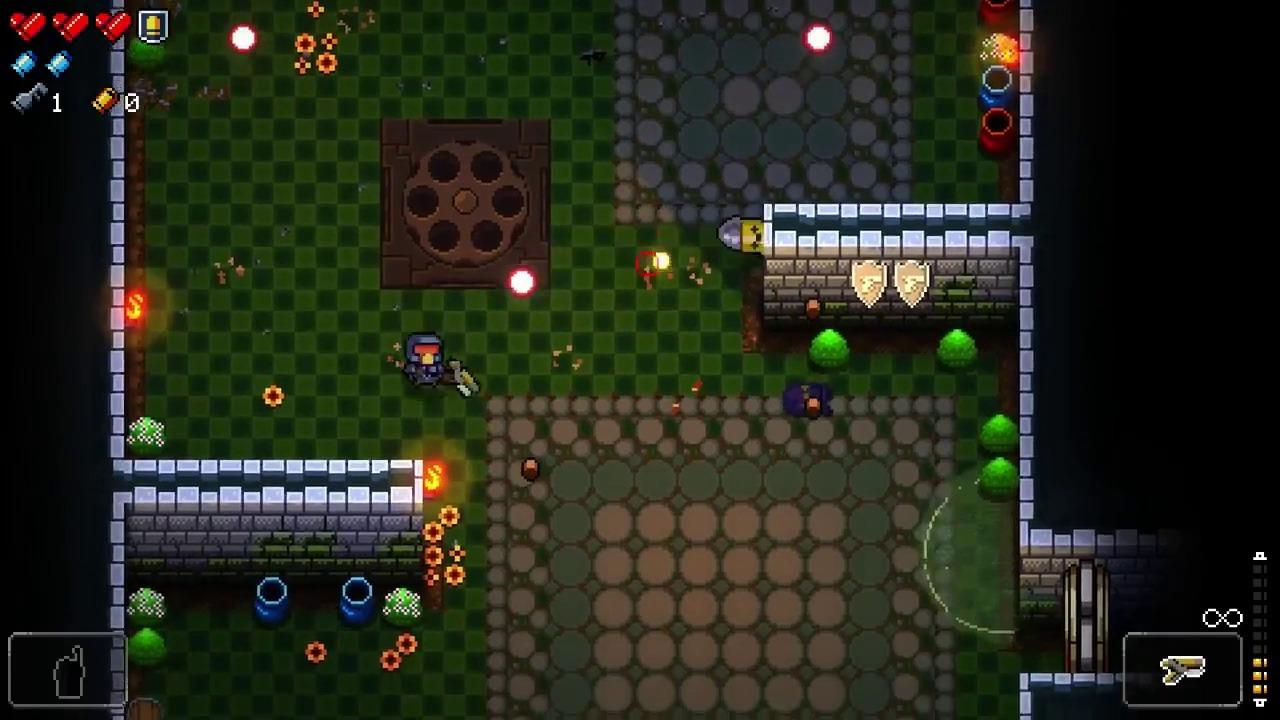bullet: (801, 24, 833, 53), (227, 24, 259, 51), (507, 270, 535, 296)
dead_bullet_kin: (719, 216, 765, 253)
locked_door: (1063, 560, 1110, 671)
player: (403, 333, 445, 390)
rubber_kin: (782, 384, 835, 419)
teleporter: (382, 118, 553, 292)
